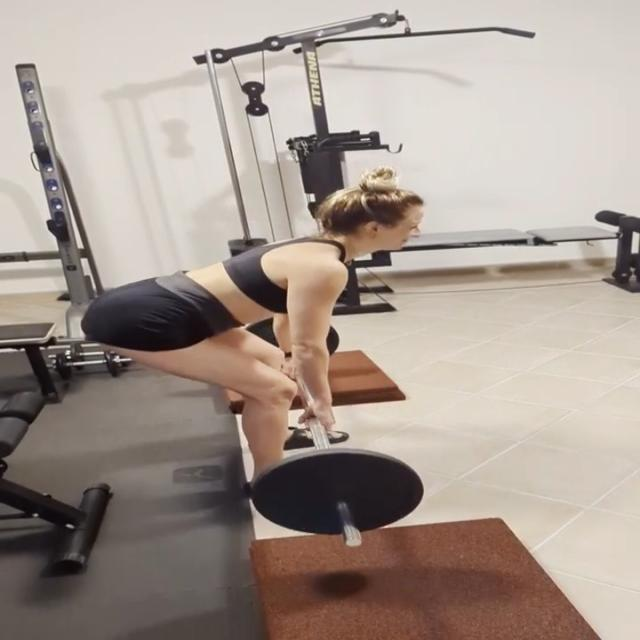barbell: (246, 444, 430, 552)
